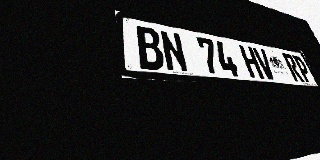4: (212, 40, 240, 77)
7: (195, 36, 223, 75)
B: (134, 25, 166, 71)
H: (238, 45, 264, 79)
N: (159, 30, 189, 73)
P: (292, 55, 314, 83)
R: (282, 53, 305, 82)
V: (252, 47, 277, 80)
